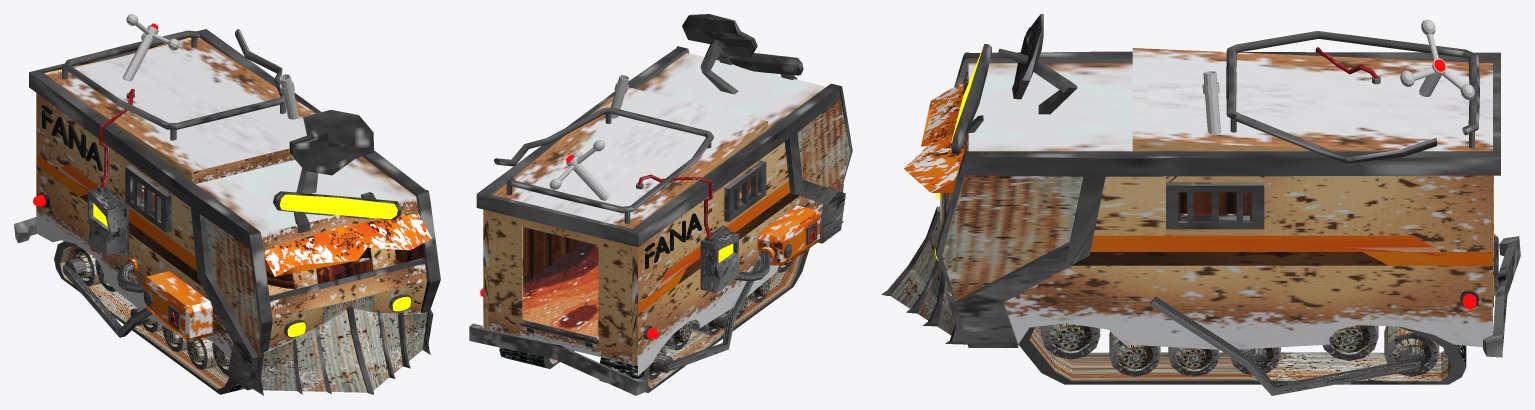
File: FanaRuined.fbx
3 views of the same model, side by side, from view 1: azimuth 30°, elevation 25°; view 2: azimuth 150°, elevation 25°; view 3: azimuth 270°, elevation 25° (orthographic). The views are drawn at different scales.
Visible parts, largest first — view 1: ExteriorBox, BoxNStuff, Wheels, InteriorBox, Anemometer, FanaText, Exhaust, FuckDaFog; view 2: ExteriorBox, InteriorBox, Wheels, BoxNStuff, Anemometer, FanaText, FuckDaFog, Cylinder, Exhaust; view 3: ExteriorBox, Wheels, Anemometer, InteriorBox, Exhaust, FuckDaFog.
Boxes of the visible parts, left/top/right/bottom form: ExteriorBox: left=14, top=29, right=440, bottom=395; BoxNStuff: left=87, top=88, right=212, bottom=341; Wheels: left=54, top=241, right=244, bottom=394; InteriorBox: left=142, top=185, right=423, bottom=295; Anemometer: left=122, top=14, right=179, bottom=81; FanaText: left=42, top=105, right=103, bottom=171; Exhaust: left=279, top=74, right=298, bottom=119; FuckDaFog: left=128, top=165, right=419, bottom=289; ExteriorBox: left=469, top=14, right=852, bottom=395; InteriorBox: left=523, top=178, right=750, bottom=337; Wheels: left=499, top=248, right=809, bottom=392; BoxNStuff: left=636, top=174, right=819, bottom=293; Anemometer: left=549, top=140, right=610, bottom=200; FanaText: left=645, top=213, right=702, bottom=268; FuckDaFog: left=522, top=48, right=850, bottom=346; Cylinder: left=520, top=320, right=598, bottom=348; Exhaust: left=611, top=74, right=629, bottom=118; ExteriorBox: left=881, top=14, right=1520, bottom=357; Wheels: left=1018, top=296, right=1466, bottom=395; Anemometer: left=1400, top=19, right=1474, bottom=99; InteriorBox: left=1180, top=192, right=1249, bottom=215; Exhaust: left=1202, top=71, right=1220, bottom=134; FuckDaFog: left=1166, top=182, right=1264, bottom=221.
Size of the model in its own units: 528 by 636 by 1131.
